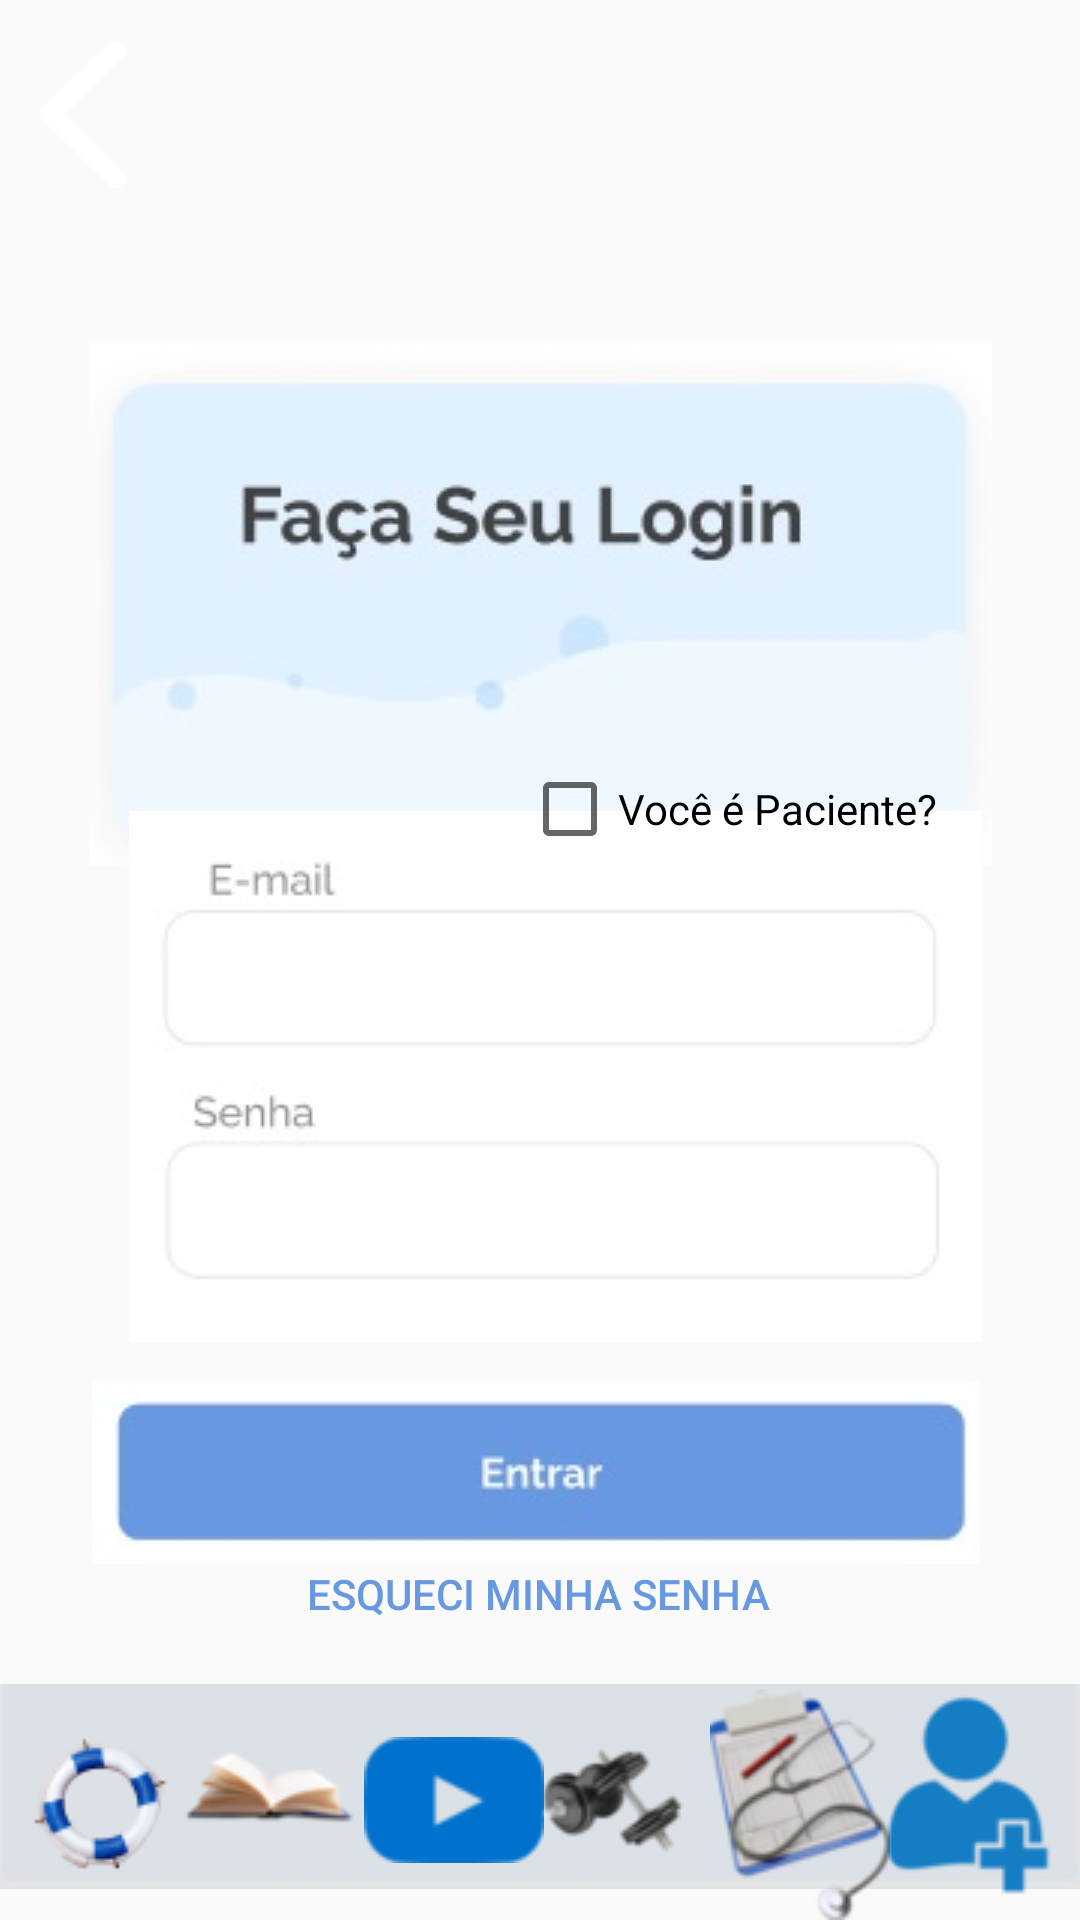

Icons on this 1080×1920 Android screen, each with the point to tap as (x,y):
ajudabotao: (100,1803)
iconecadastromenu: (972,1796)
iconelivromenu: (270,1788)
iconepalylistmenu: (454,1800)
iconexerciciosmenu: (608,1806)
